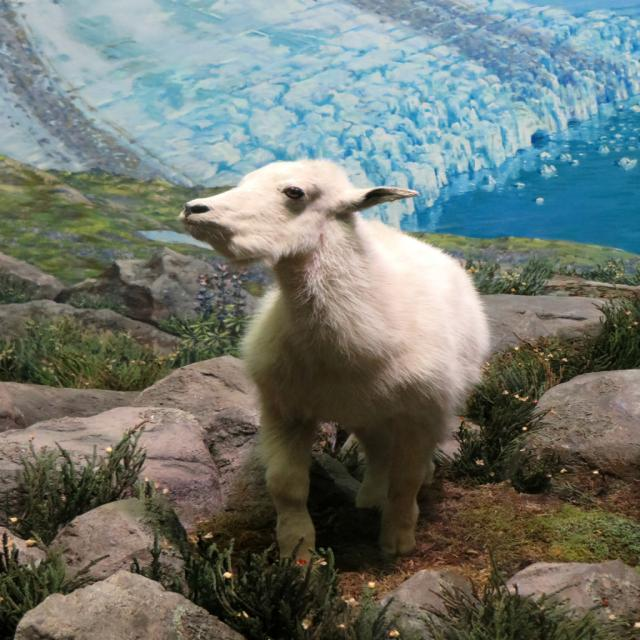Goat: (175, 175, 501, 586)
